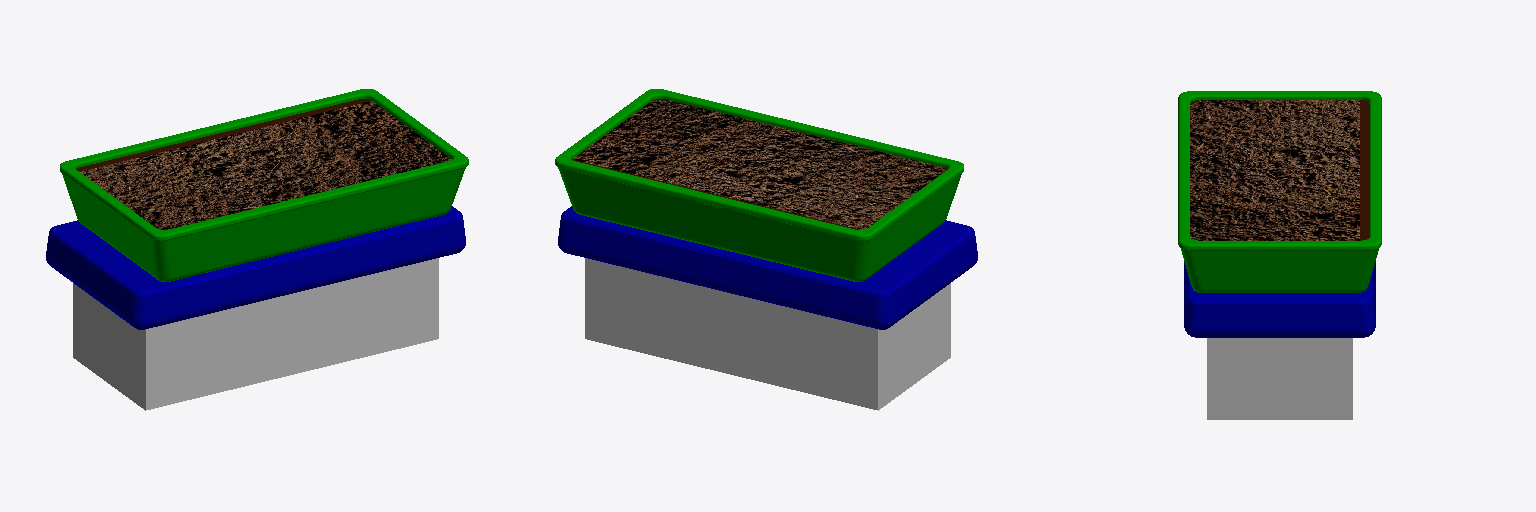
The picture shows the model from 3 angles: view 1: azimuth 30°, elevation 25°; view 2: azimuth 150°, elevation 25°; view 3: azimuth 270°, elevation 25°; orthographic projection.
Parts seen in each view (by area): view 1: brick, soil_layer_TurfAssembly.002, truf_top_TurfAssembly.001, truf_base_TurfAssembly; view 2: brick, soil_layer_TurfAssembly.002, truf_top_TurfAssembly.001, truf_base_TurfAssembly; view 3: soil_layer_TurfAssembly.002, truf_top_TurfAssembly.001, brick, truf_base_TurfAssembly.
Boxes of the visible parts, x1=… form: brick: x1=73, y1=258, x2=438, y2=410; soil_layer_TurfAssembly.002: x1=76, y1=99, x2=451, y2=229; truf_top_TurfAssembly.001: x1=60, y1=89, x2=468, y2=281; truf_base_TurfAssembly: x1=46, y1=206, x2=465, y2=329; brick: x1=585, y1=258, x2=950, y2=410; soil_layer_TurfAssembly.002: x1=572, y1=99, x2=947, y2=229; truf_top_TurfAssembly.001: x1=555, y1=89, x2=963, y2=281; truf_base_TurfAssembly: x1=558, y1=206, x2=977, y2=329; soil_layer_TurfAssembly.002: x1=1190, y1=100, x2=1369, y2=240; truf_top_TurfAssembly.001: x1=1178, y1=91, x2=1381, y2=292; brick: x1=1207, y1=338, x2=1352, y2=419; truf_base_TurfAssembly: x1=1184, y1=262, x2=1375, y2=337.
Bounding box in the file's own units: 0.7952 × 0.4208 × 0.42.
4 materials, 1 textured.